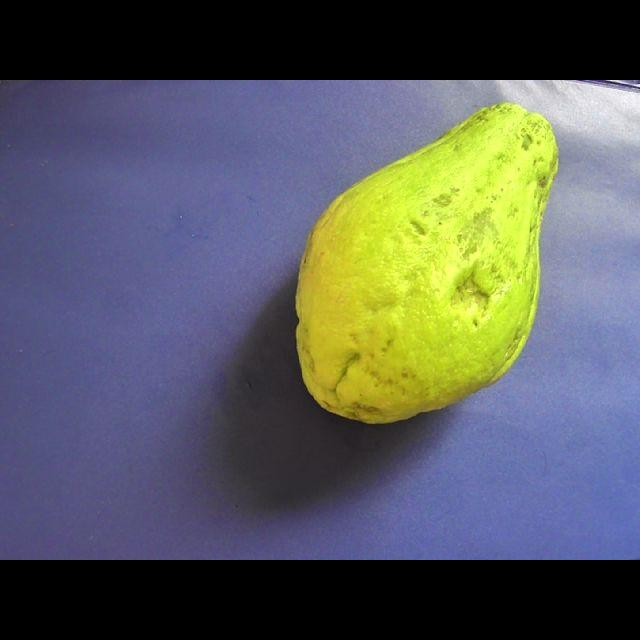chayote: (296, 104, 558, 422)
